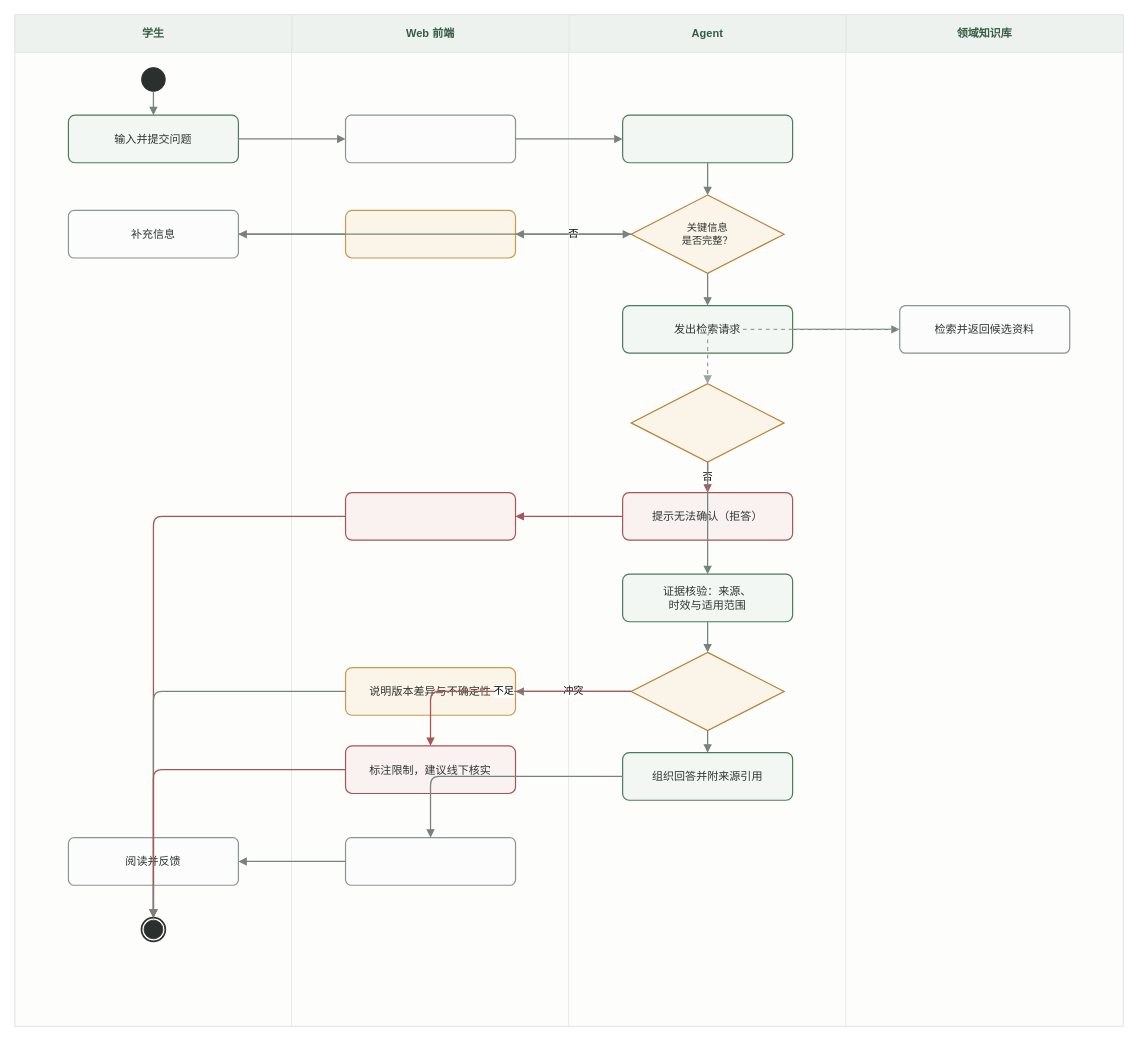
The diagram is 1139 pixels wide and 1042 high, and some of its shapes have lost their labels. The shapes that lost their labels are listed below. From the top down, each one's centre as x and y in pixels, then its label:
[430,138]: 展示处理中状态
[707,138]: 意图识别与实体抽取
[430,233]: 生成追问
[707,422]: 是否存在 候选资料？
[430,516]: 展示无法确认提示
[707,691]: 证据 是否充分？
[430,861]: 渲染回答与来源链接
